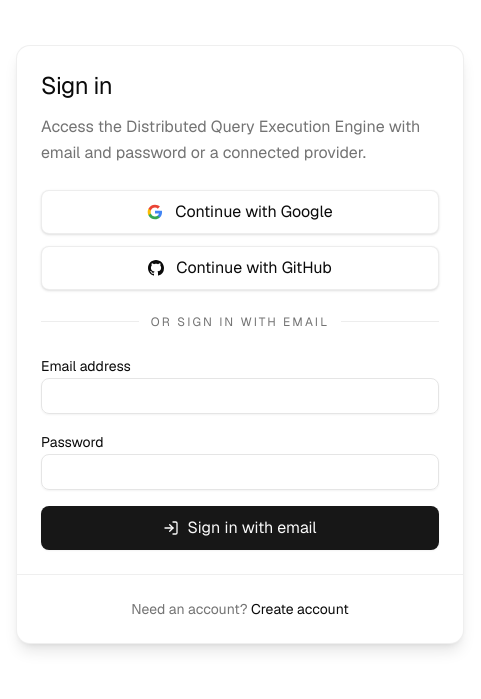
Test: LoginPage › shows API errors from email sign-in
Expected: the heading "Sign in" is shown, [41,70,112,100]
Type "reader@example.com" into the field labelled "Email address" at (240, 396), box [41,378,439,414]
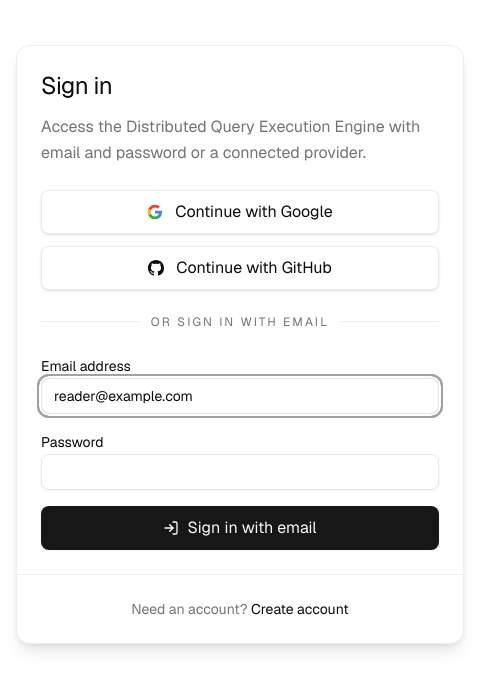
Type "wrong-password" into the password field labelled "Password" at (240, 472), box [41,454,439,490]
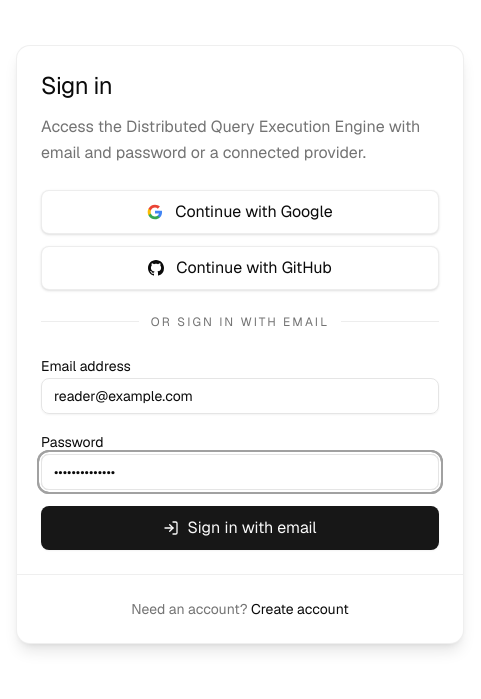
Click the button "Sign in with email" at (240, 528), box [41,506,439,550]
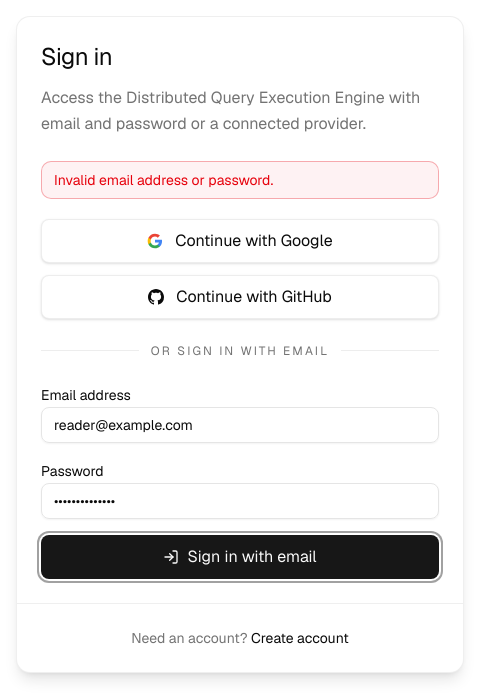
Expected: the message reads "Invalid email address or password.", [54,170,273,188]
